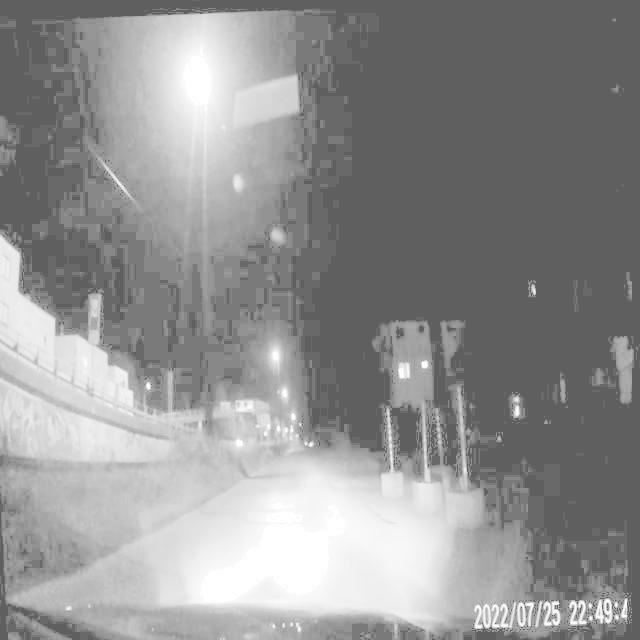Pothole: (254, 494, 301, 531), (338, 467, 378, 496)
